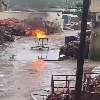fire: (26, 30, 48, 38)
